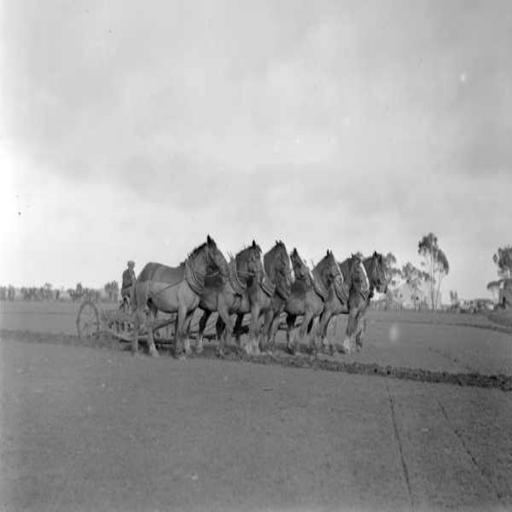Horse: (131, 234, 390, 360)
